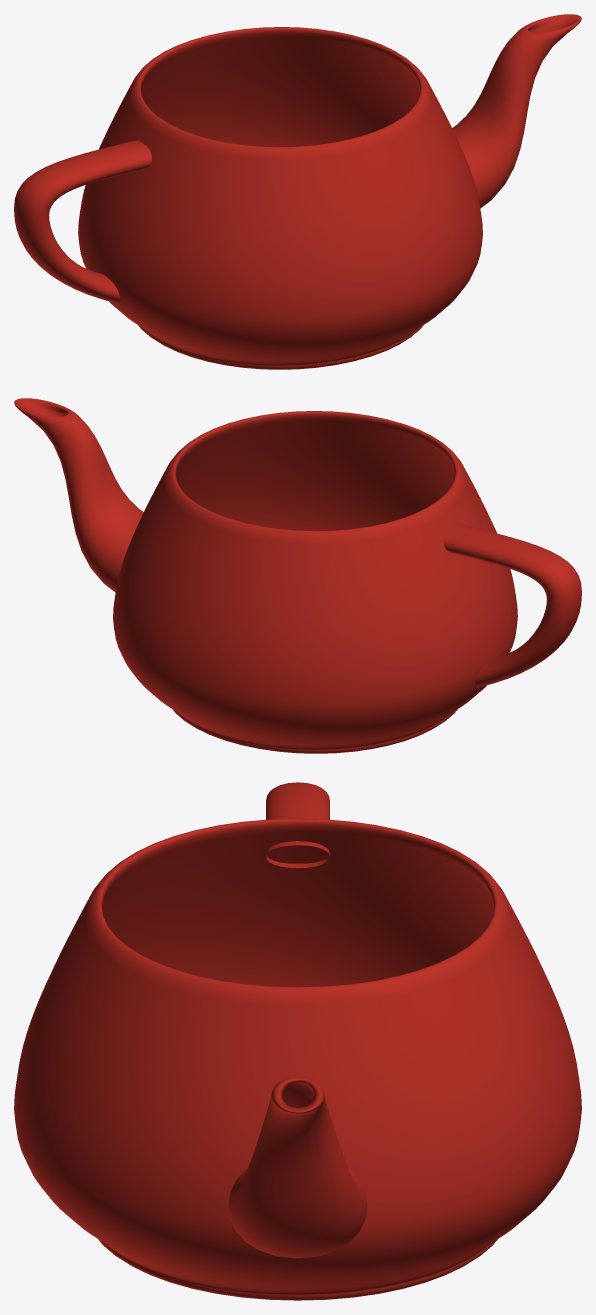
File: teapot.obj
The picture shows the model from 3 angles, top to bottom: view 1: azimuth 30°, elevation 25°; view 2: azimuth 150°, elevation 25°; view 3: azimuth 270°, elevation 25°; orthographic projection. The views are drawn at different scales.
Parts seen in each view (by area): view 1: Teapot; view 2: Teapot; view 3: Teapot.
Part boxes in pixels (box(x1,y1,x2,y2)): Teapot: box(14, 14, 581, 369); Teapot: box(14, 398, 581, 753); Teapot: box(14, 782, 581, 1300).
Size of the model in its own units: 2.7 by 1.05 by 1.68.
